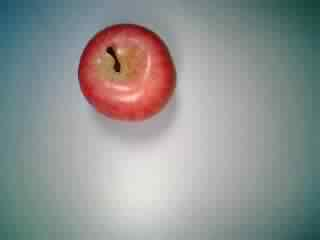apple: (75, 22, 180, 126)
